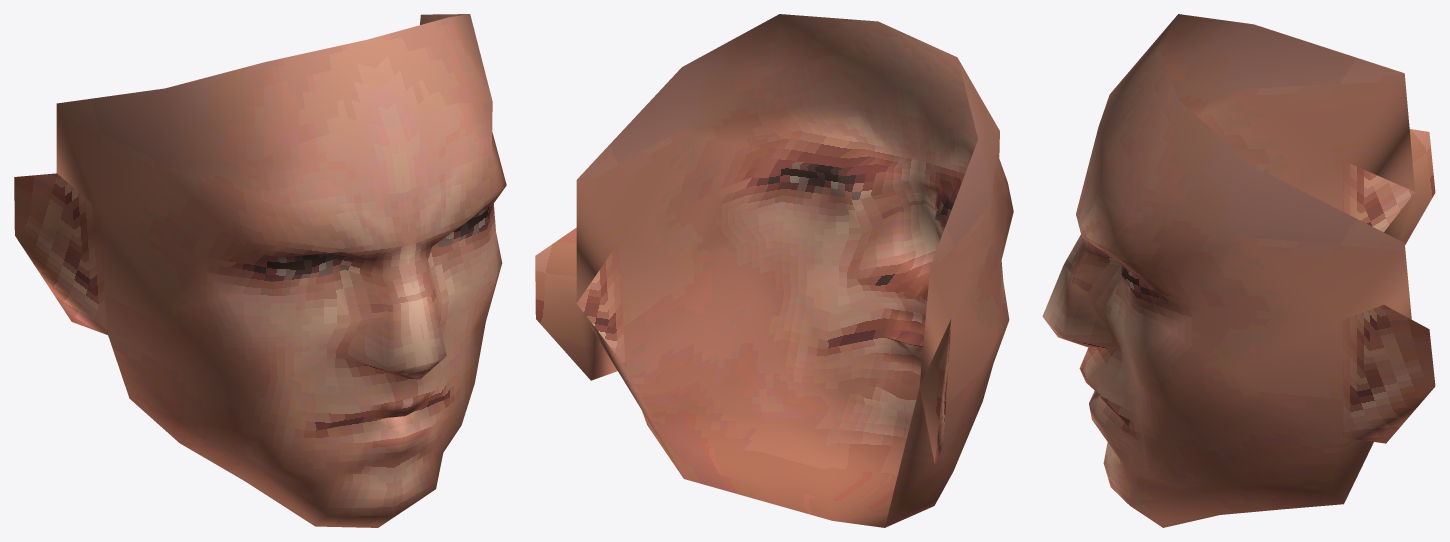
File: m_hair001.glb
3 views of the same model, side by side, from view 1: azimuth 30°, elevation 25°; view 2: azimuth 150°, elevation 25°; view 3: azimuth 270°, elevation 25° (orthographic). The views are drawn at different scales.
Bounding box in the file's own units: 17.18 × 18.64 × 14.46.
1 material, 1 textured.
